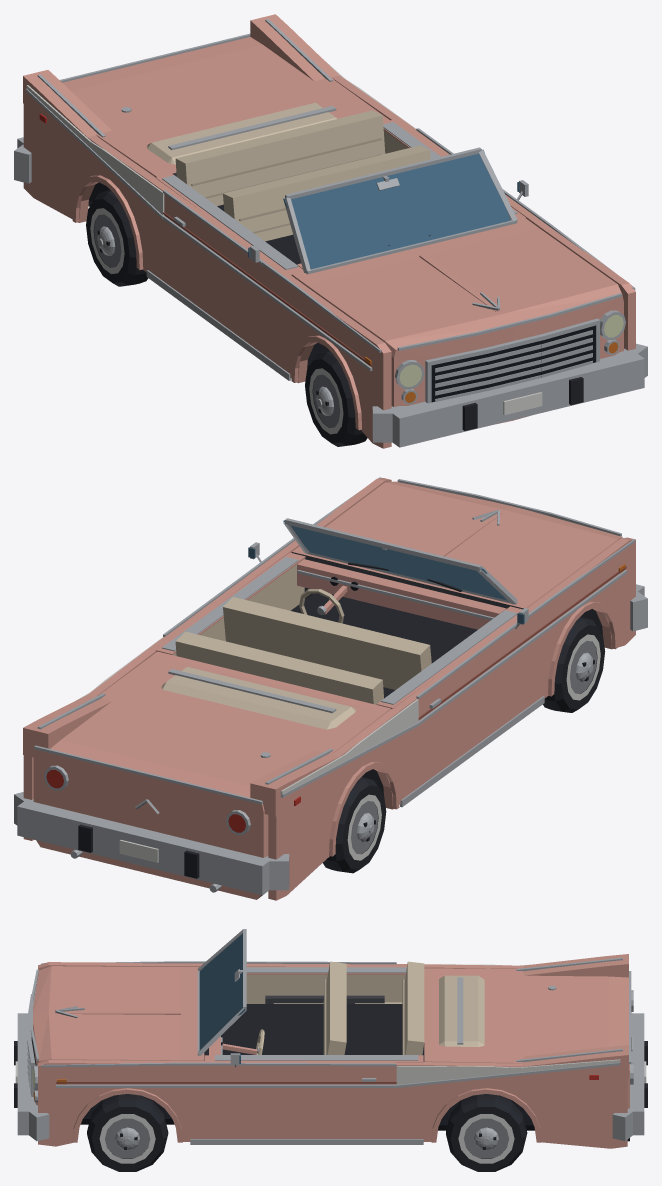
The model's file is convertible-60s.glb.
The picture shows the model from 3 angles, top to bottom: view 1: azimuth 30°, elevation 25°; view 2: azimuth 150°, elevation 25°; view 3: azimuth 270°, elevation 25°; orthographic projection. The views are drawn at different scales.
Parts seen in each view (by area): view 1: object 1, wheel-rl, wheel-fl; view 2: object 1, wheel-fl, wheel-rl; view 3: object 1, wheel-fr, wheel-rr.
Boxes of the visible parts, x1=… form: object 1: x1=14, y1=14, x2=647, y2=448; wheel-rl: x1=86, y1=190, x2=148, y2=286; wheel-fl: x1=305, y1=350, x2=367, y2=446; object 1: x1=14, y1=477, x2=647, y2=900; wheel-fl: x1=543, y1=616, x2=605, y2=712; wheel-rl: x1=323, y1=777, x2=386, y2=873; object 1: x1=14, y1=929, x2=647, y2=1148; wheel-fr: x1=87, y1=1094, x2=168, y2=1171; wheel-rr: x1=446, y1=1094, x2=527, y2=1171.
Size of the model in its own units: 2.18 by 1.43 by 5.3.
